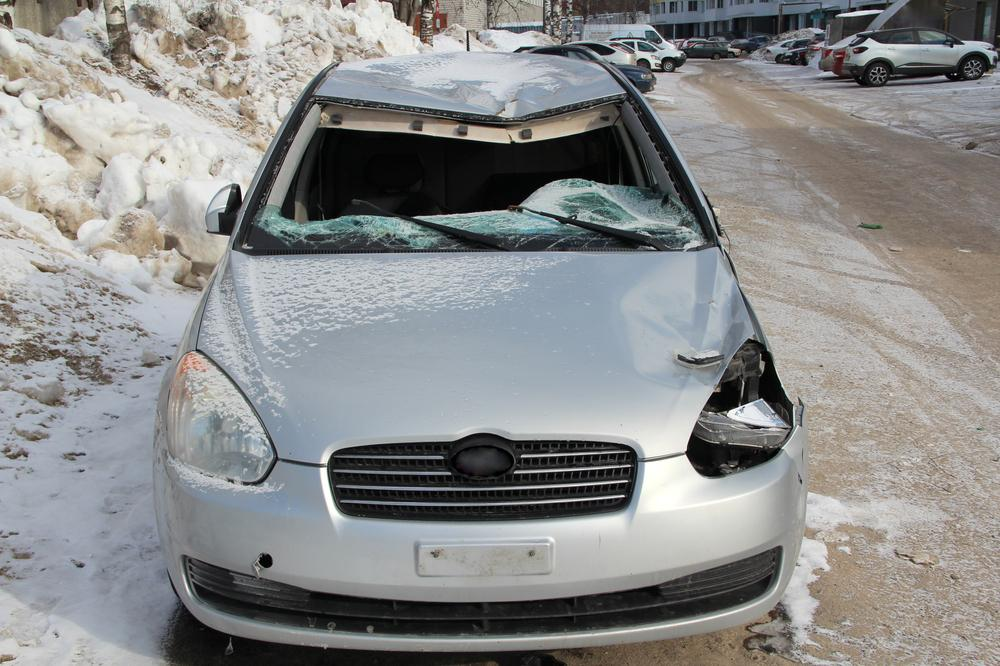dent: (333, 51, 624, 119), (625, 250, 752, 389)
glass shatter: (244, 98, 707, 250)
lamp broken: (690, 336, 790, 476)
